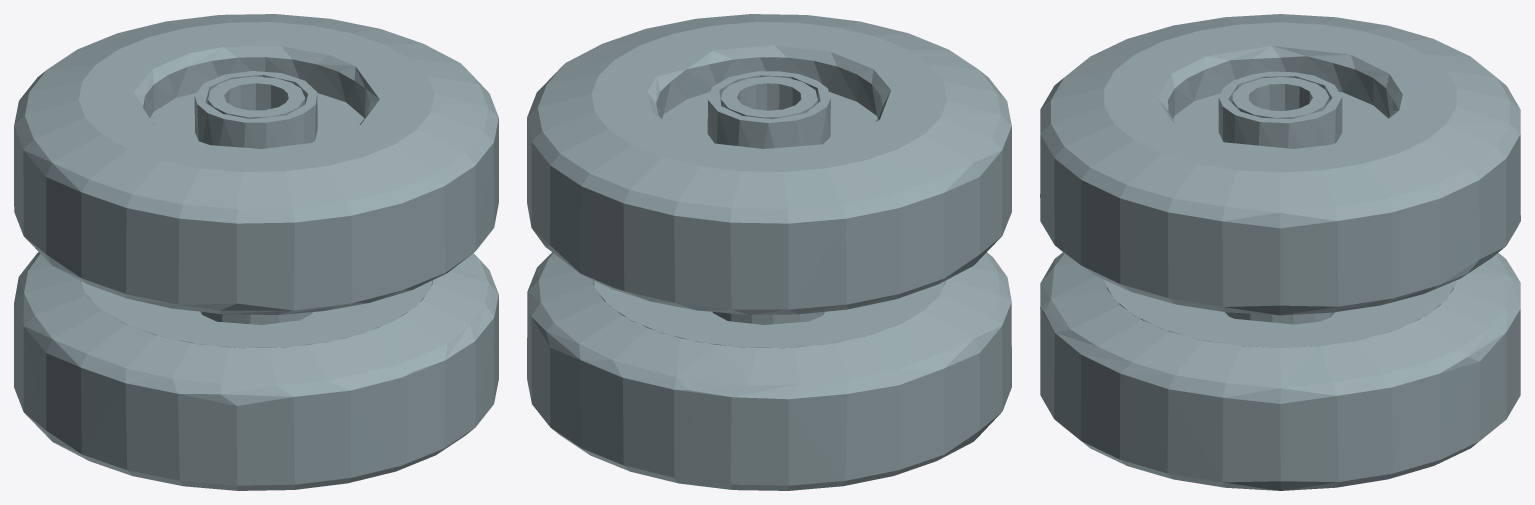
The model's file is castor.dae.
3 views of the same model, side by side, from view 1: azimuth 30°, elevation 25°; view 2: azimuth 150°, elevation 25°; view 3: azimuth 270°, elevation 25° (orthographic).
Parts seen in each view (by area): view 1: node0; view 2: node0; view 3: node0.
Part boxes in pixels (x1,y1,x2,y2): node0: (14, 14, 498, 490); node0: (527, 14, 1011, 490); node0: (1040, 14, 1520, 490).
Size of the model in its own units: 0.075 by 0.0745 by 0.053.
